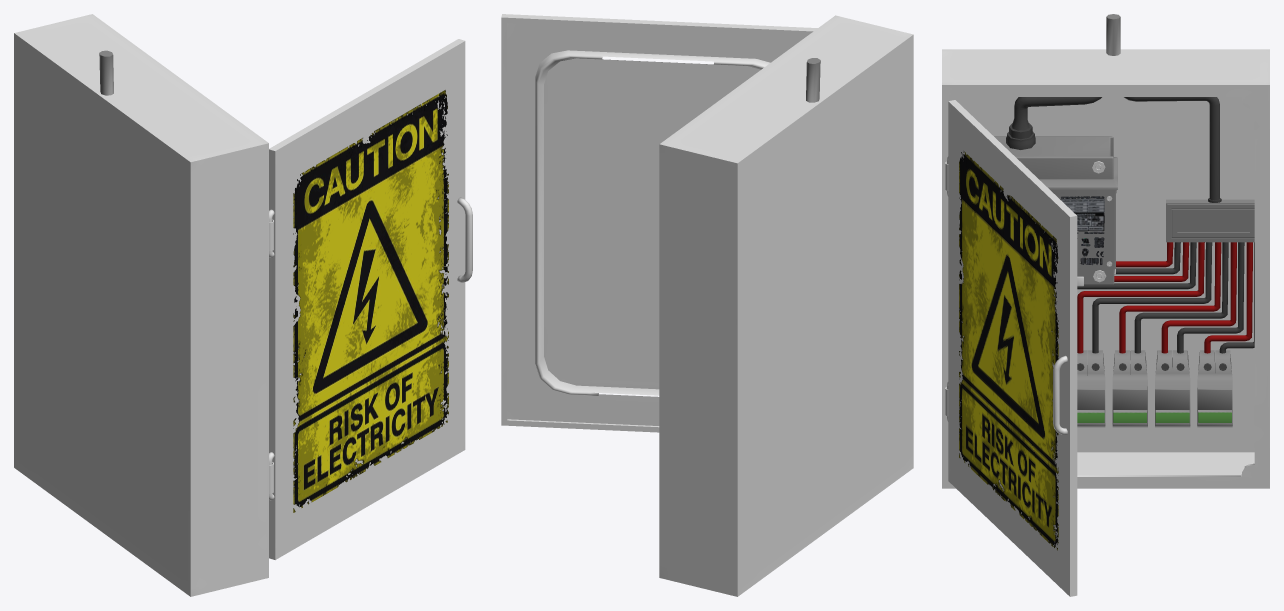
File: industrial_electrical_box.glb
3 views of the same model, side by side, from view 1: azimuth 30°, elevation 25°; view 2: azimuth 150°, elevation 25°; view 3: azimuth 270°, elevation 25° (orthographic). The views are drawn at different scales.
Parts seen in each view (by area): view 1: Electrical Box, Electrical Door; view 2: Electrical Box, Electrical Door; view 3: Electrical Box, Electrical Door, Akumulator.
Part boxes in pixels (<box>): Electrical Box: <box>14,14,273,596</box>; Electrical Door: <box>269,39,472,559</box>; Electrical Box: <box>659,15,913,596</box>; Electrical Door: <box>501,14,817,432</box>; Electrical Box: <box>942,14,1269,488</box>; Electrical Door: <box>947,100,1077,596</box>; Akumulator: <box>994,136,1117,284</box>.
Size of the model in its own units: 0.3874 by 0.5104 by 0.3447.
1 material, 1 textured.
